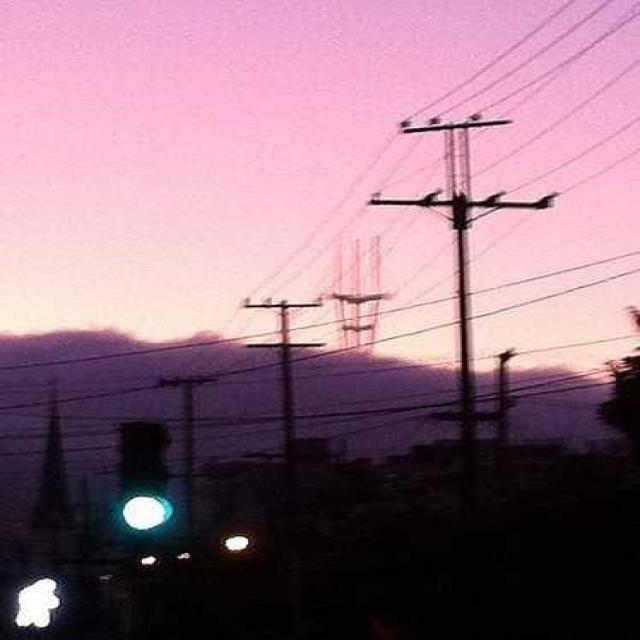Traffic Light -Green-: (112, 413, 180, 543)
